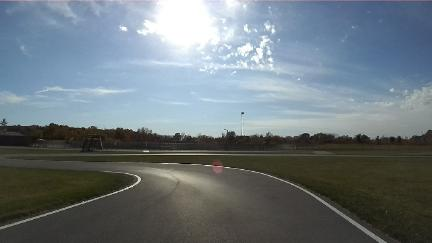Grass: (22, 156, 431, 242), (0, 167, 132, 222), (332, 151, 431, 155), (0, 148, 79, 153)
Lane: (0, 155, 376, 242)
